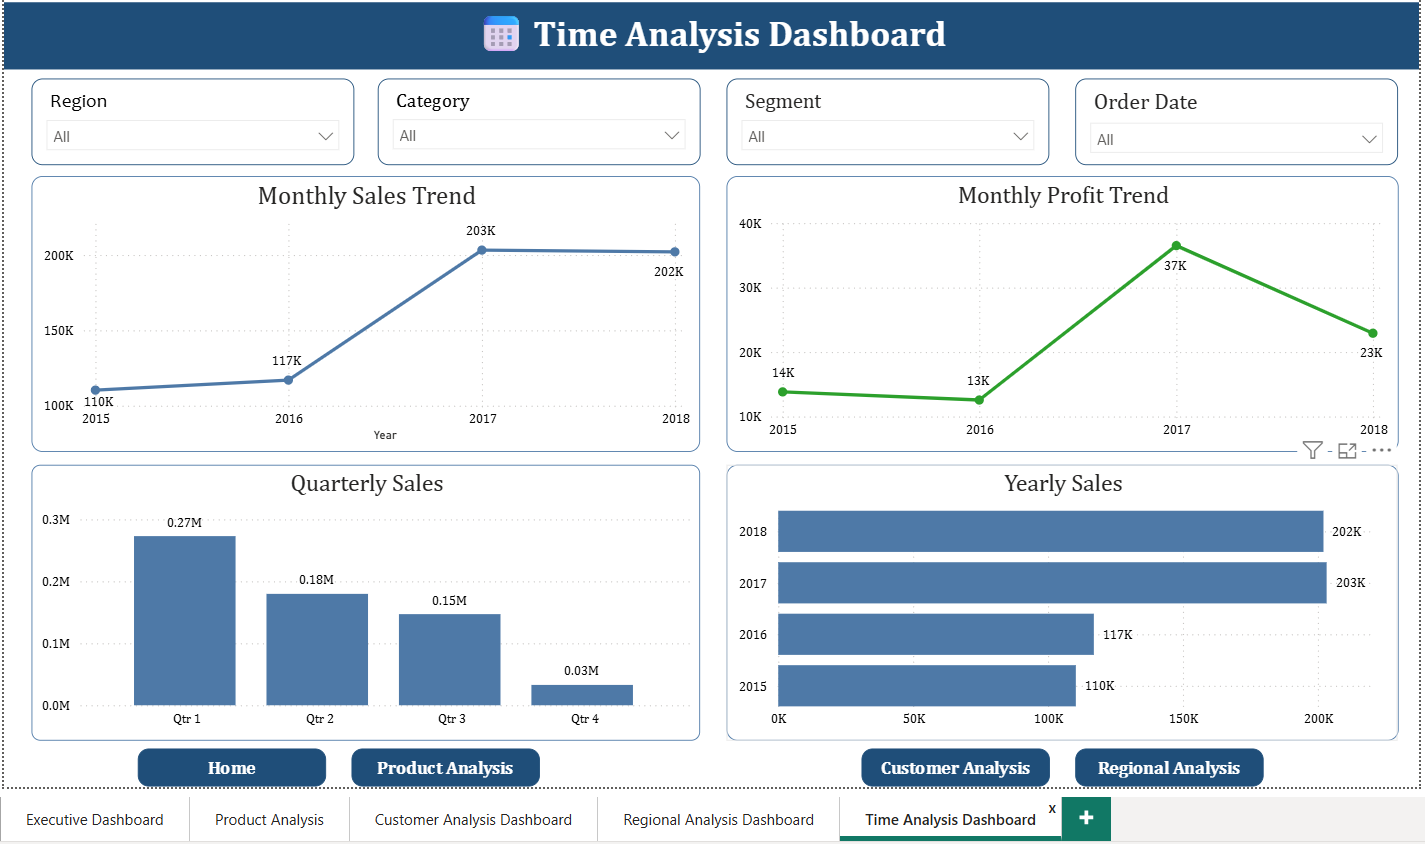

Layout of this report page (visuals, bound fields, positions):
{"tool":"powerbi","page":{"name":"Time Analysis Dashboard","canvas":[1280,720],"ordinal":4},"visuals":[{"type":"textbox","box":[0,10.5,1280.2,61],"z":0},{"type":"slicer","fields":{"Values":["superstore_clean.Region"]},"box":[24.7,79.6,292.3,78.2],"z":1000},{"type":"slicer","fields":{"Values":["superstore_clean.Category"]},"box":[337.6,79.6,292.3,78.2],"z":2000},{"type":"slicer","fields":{"Values":["superstore_clean.Segment"]},"box":[653.2,79.6,292.3,78.2],"z":3000},{"type":"slicer","fields":{"Values":["superstore_clean.Order Date"]},"box":[968.8,79.6,292.3,78.2],"z":4000},{"type":"lineChart","title":"Monthly Sales Trend","fields":{"Category":["superstore_clean.Order Date.Variation.Date Hierarchy.Year","superstore_clean.Order Date.Variation.Date Hierarchy.Month"],"Y":["Sum(superstore_clean.Sales)"]},"box":[24.7,167.4,605.1,249.7],"z":5000},{"type":"lineChart","title":"Monthly Profit Trend","fields":{"Category":["superstore_clean.Order Date.Variation.Date Hierarchy.Year","superstore_clean.Order Date.Variation.Date Hierarchy.Month"],"Y":["Sum(superstore_clean.Profit)"]},"box":[653.2,167.4,607.9,249.7],"z":6000},{"type":"clusteredColumnChart","title":"Quarterly Sales","fields":{"Category":["superstore_clean.Order Date.Variation.Date Hierarchy.Quarter"],"Y":["Sum(superstore_clean.Sales)"]},"box":[24.7,428.1,605.1,249.7],"z":7000},{"type":"clusteredBarChart","title":"Yearly Sales","fields":{"Category":["superstore_clean.Order Date.Variation.Date Hierarchy.Year"],"Y":["Sum(superstore_clean.Sales)"]},"box":[653.2,428.1,607.9,249.7],"z":8000},{"type":"actionButton","box":[120.8,685.7,170.2,34.3],"z":9000},{"type":"actionButton","box":[314.2,685.7,170.2,34.3],"z":10000},{"type":"actionButton","box":[775.3,685.7,170.2,34.3],"z":11000},{"type":"actionButton","box":[968.8,685.7,170.2,34.3],"z":12000}]}

Visuals, with their boxes on the page's 1280x720 design canvas (x1, y1, x2, y2). These are canvas units, not pixel positions in the 1425x844 screenshot, which may show the page scaled, cropped or inside an application window:
textbox: detection(0, 10, 1280, 72)
slicer - superstore_clean.Region: detection(25, 80, 317, 158)
slicer - superstore_clean.Category: detection(338, 80, 630, 158)
slicer - superstore_clean.Segment: detection(653, 80, 946, 158)
slicer - superstore_clean.Order Date: detection(969, 80, 1261, 158)
"Monthly Sales Trend" lineChart: detection(25, 167, 630, 417)
"Monthly Profit Trend" lineChart: detection(653, 167, 1261, 417)
"Quarterly Sales" clusteredColumnChart: detection(25, 428, 630, 678)
"Yearly Sales" clusteredBarChart: detection(653, 428, 1261, 678)
actionButton: detection(121, 686, 291, 720)
actionButton: detection(314, 686, 484, 720)
actionButton: detection(775, 686, 946, 720)
actionButton: detection(969, 686, 1139, 720)
